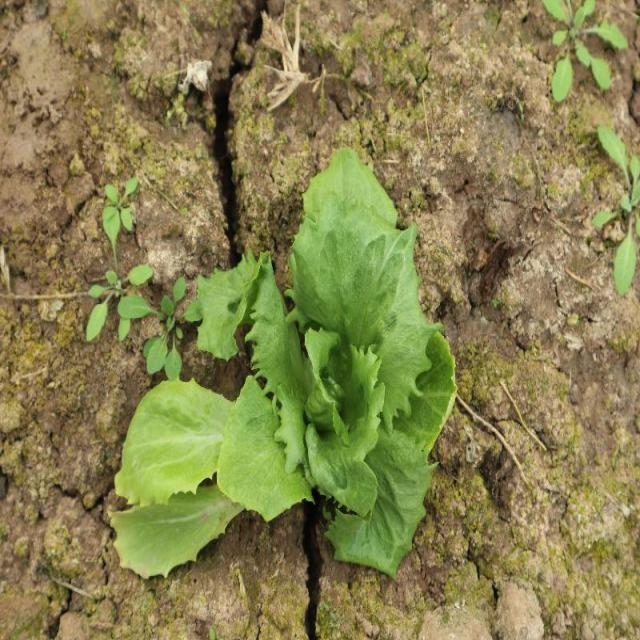crop: (108, 144, 460, 583)
